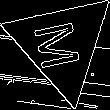M_E: (33, 17, 90, 73)
